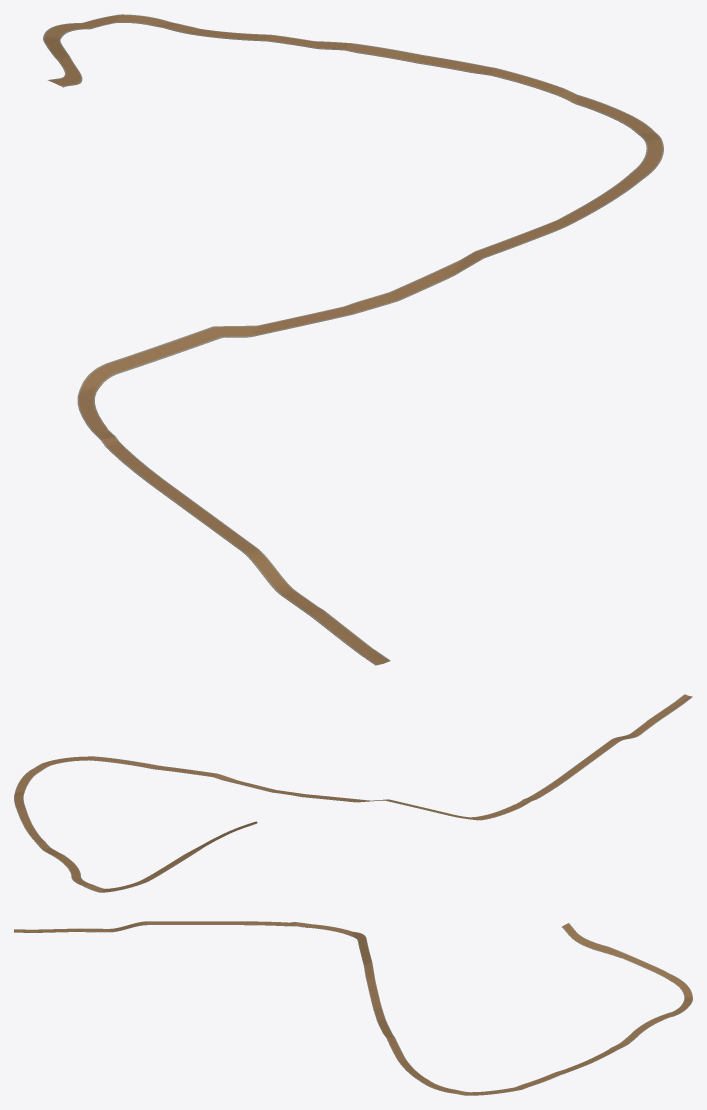
File: bratislava_castle_road.glb
3 renders of one model, top to bottom at view 1: azimuth 30°, elevation 25°; view 2: azimuth 150°, elevation 25°; view 3: azimuth 270°, elevation 25°, orthographic. The views are drawn at different scales.
Parts seen in each view (by area): view 1: Bratislava_Castle_Road; view 2: Bratislava_Castle_Road; view 3: Bratislava_Castle_Road.
Boxes of the visible parts, <box> form: Bratislava_Castle_Road: <box>43,14,663,665</box>; Bratislava_Castle_Road: <box>14,694,692,892</box>; Bratislava_Castle_Road: <box>14,921,692,1095</box>.
Size of the model in its own units: 582 by 94.71 by 936.
